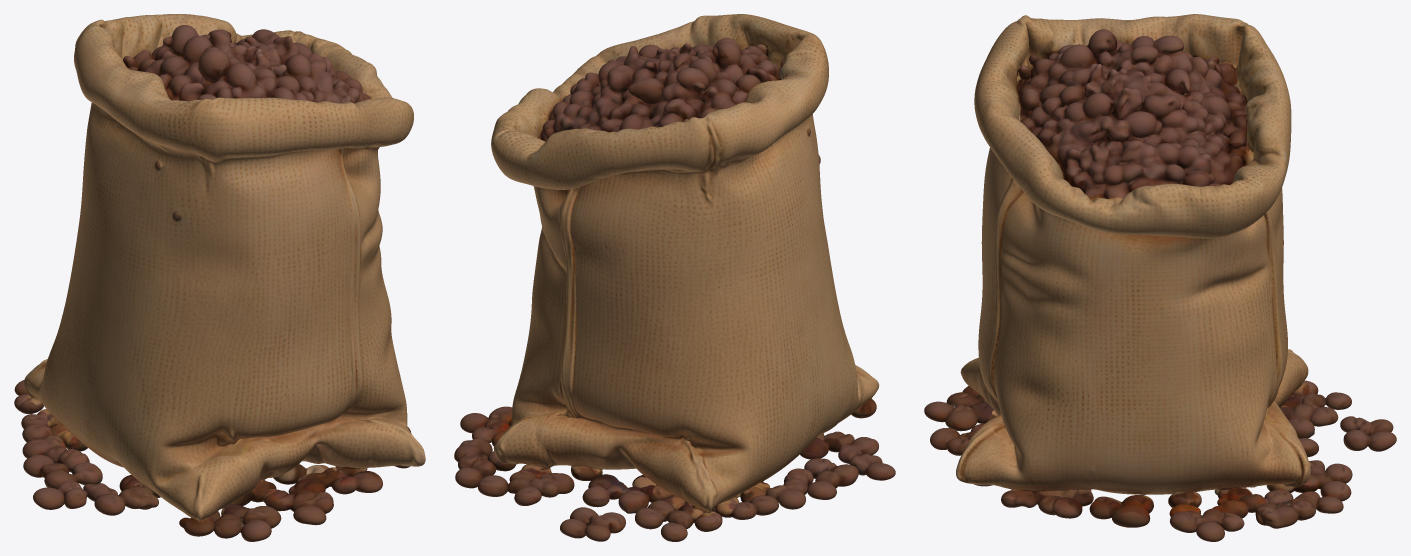
The model's file is coffee-sack.glb.
3 renders of one model, left to right at view 1: azimuth 30°, elevation 25°; view 2: azimuth 150°, elevation 25°; view 3: azimuth 270°, elevation 25°, orthographic. The views are drawn at different scales.
Visible parts, largest first — view 1: tripo_node_d114c270-237b-41c9-a871-f200aa14ddeb; view 2: tripo_node_d114c270-237b-41c9-a871-f200aa14ddeb; view 3: tripo_node_d114c270-237b-41c9-a871-f200aa14ddeb.
Boxes of the visible parts, x1,y1,x2,y2 form: tripo_node_d114c270-237b-41c9-a871-f200aa14ddeb: (14, 14, 425, 541); tripo_node_d114c270-237b-41c9-a871-f200aa14ddeb: (454, 14, 895, 541); tripo_node_d114c270-237b-41c9-a871-f200aa14ddeb: (924, 14, 1396, 541).
Bounding box in the file's own units: 0.9565 × 0.9568 × 1.
1 material, 1 textured.
